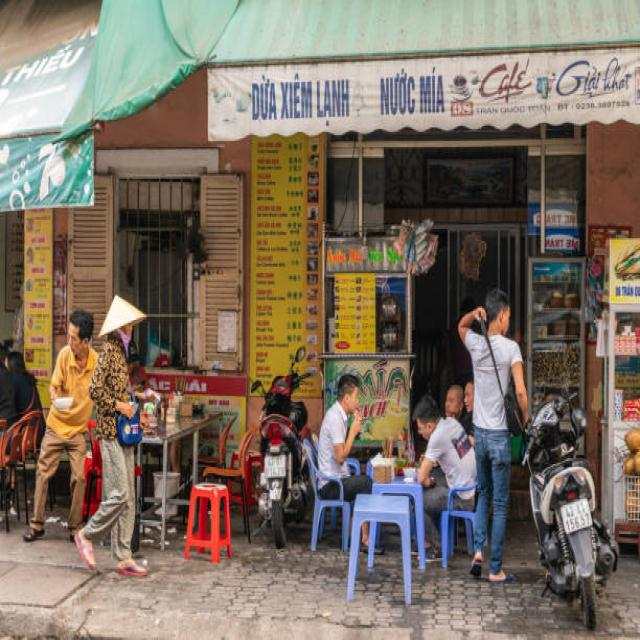Emperan: (244, 56, 640, 640)
